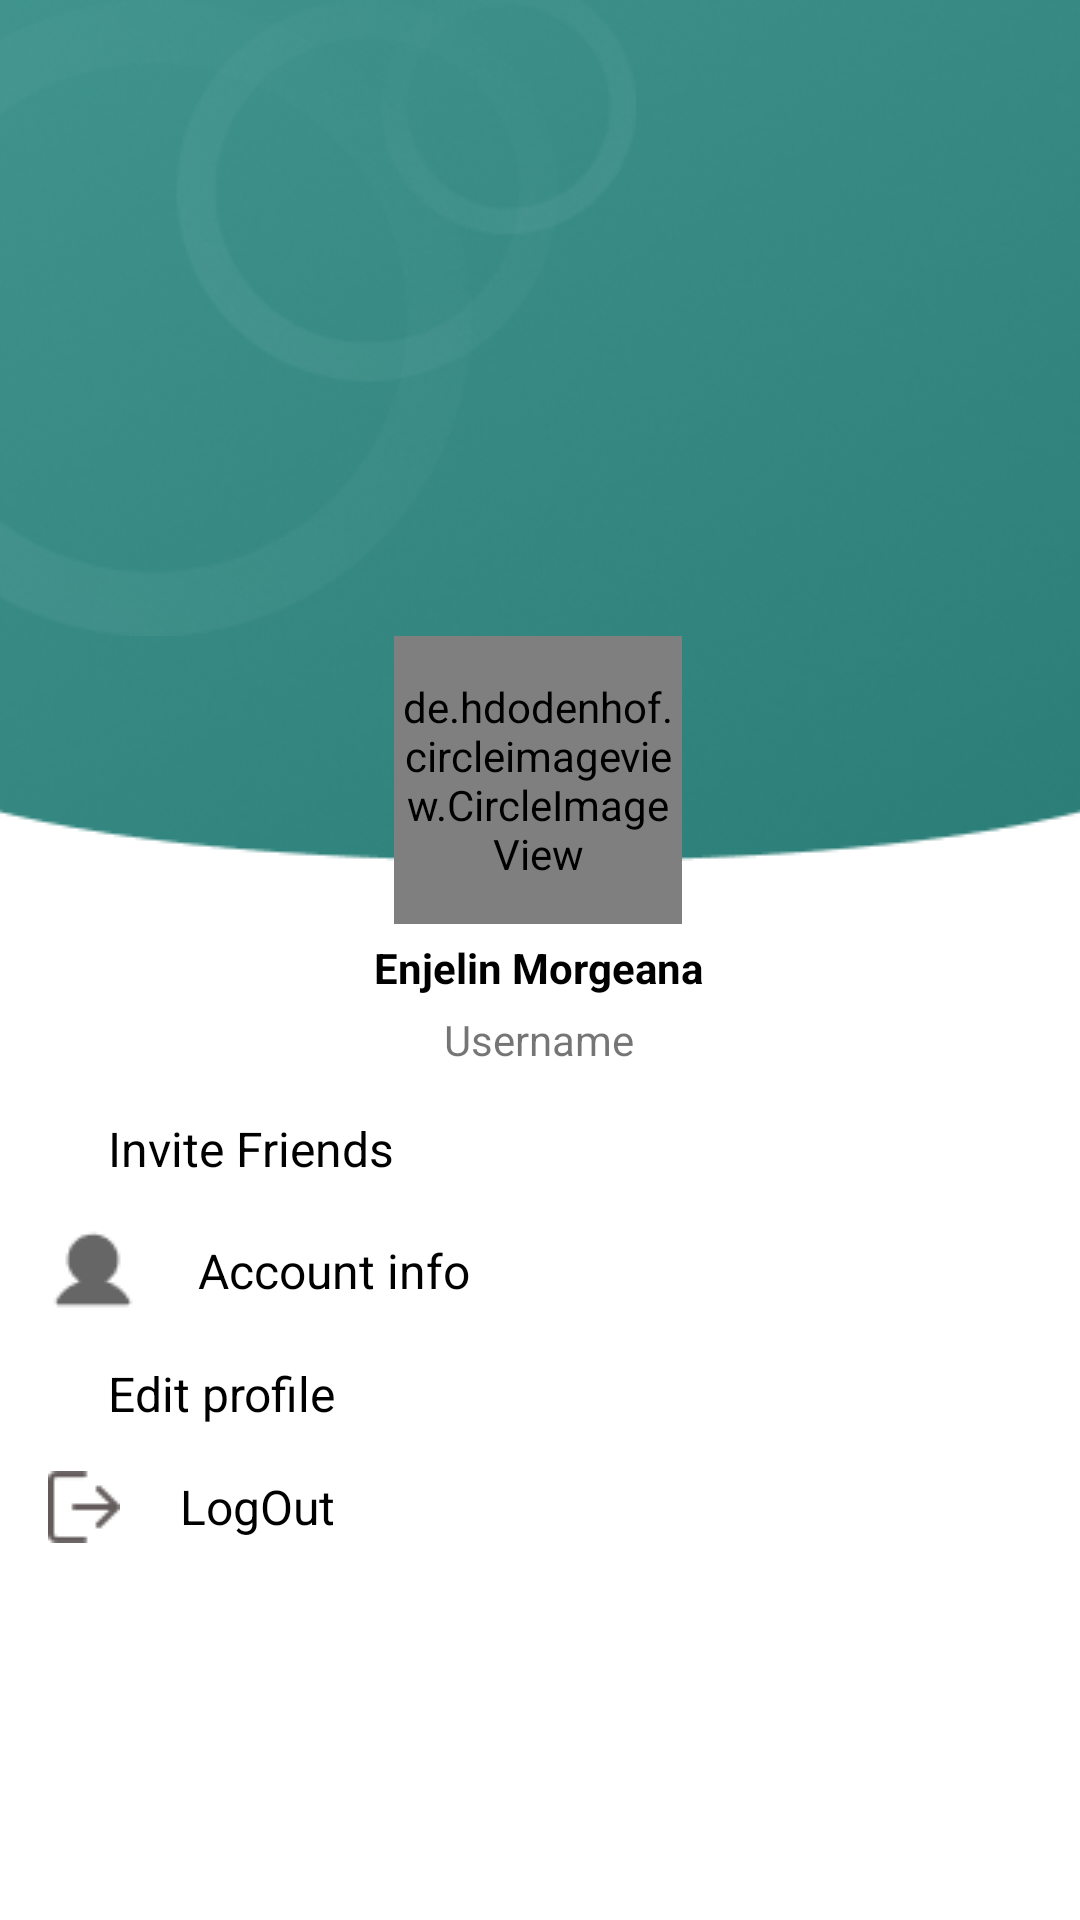

Locate icon controls on the screen. Image size 1080×1920, boxes as (x1, y1, x2, y2).
userfill: (55, 1233, 132, 1307)
